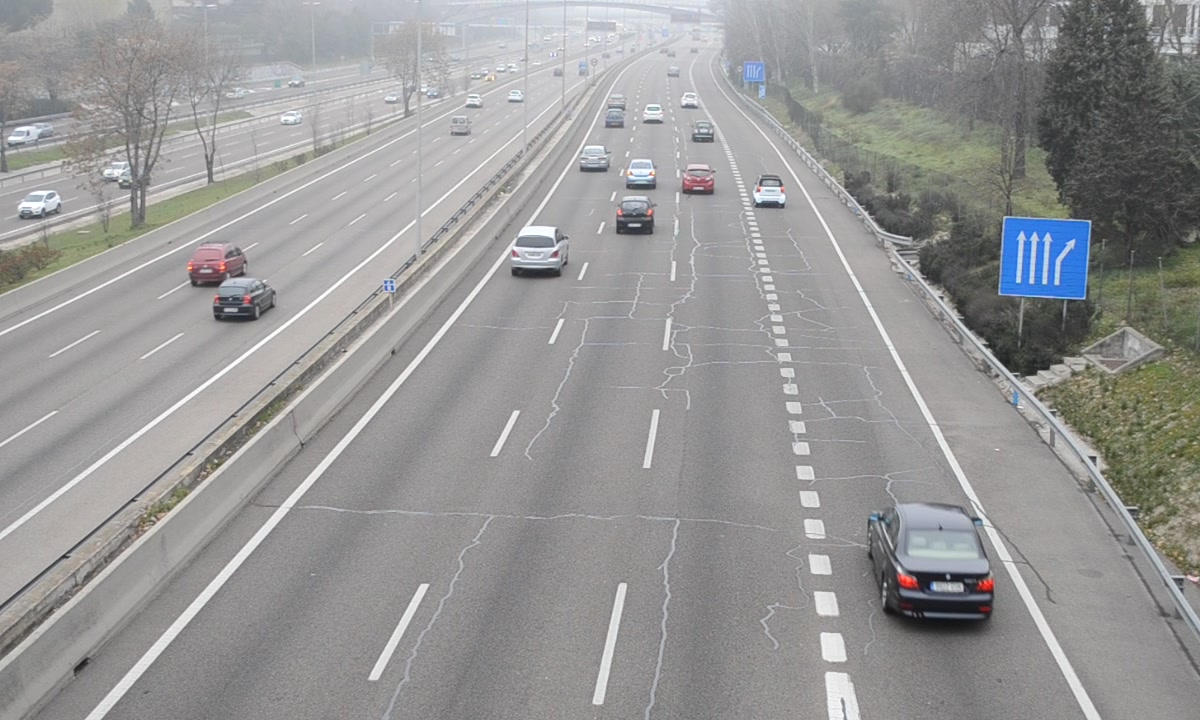car: (869, 503, 995, 623), (509, 224, 569, 270), (614, 195, 656, 236), (753, 173, 787, 210), (681, 163, 716, 197), (625, 157, 658, 190), (579, 145, 610, 173), (690, 120, 714, 144), (603, 109, 627, 130)
